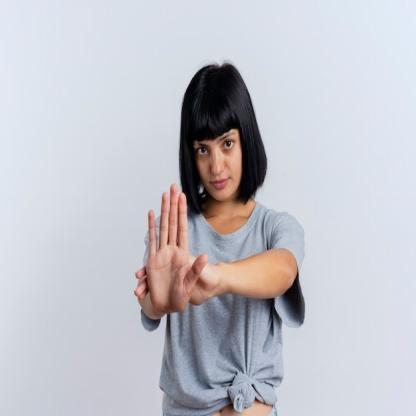stop: (144, 183, 212, 318)
